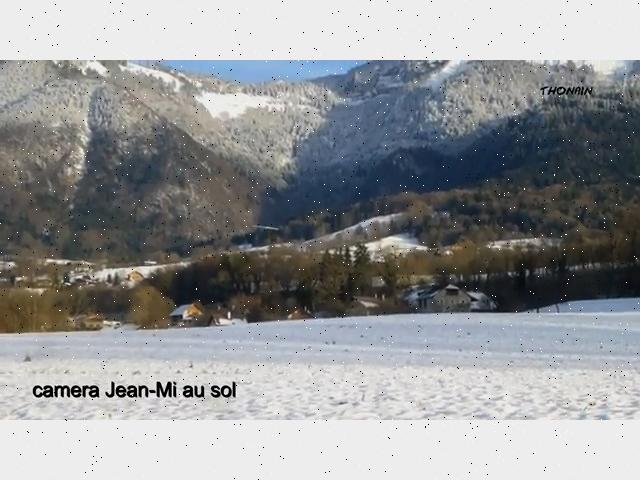Anti-Drone: (244, 223, 288, 233)
